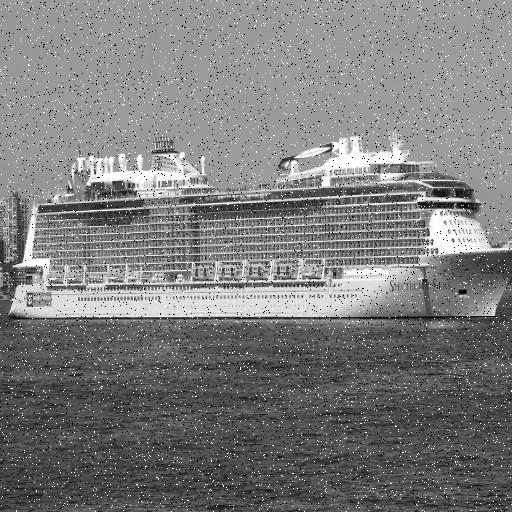cruises: (4, 128, 512, 324)
